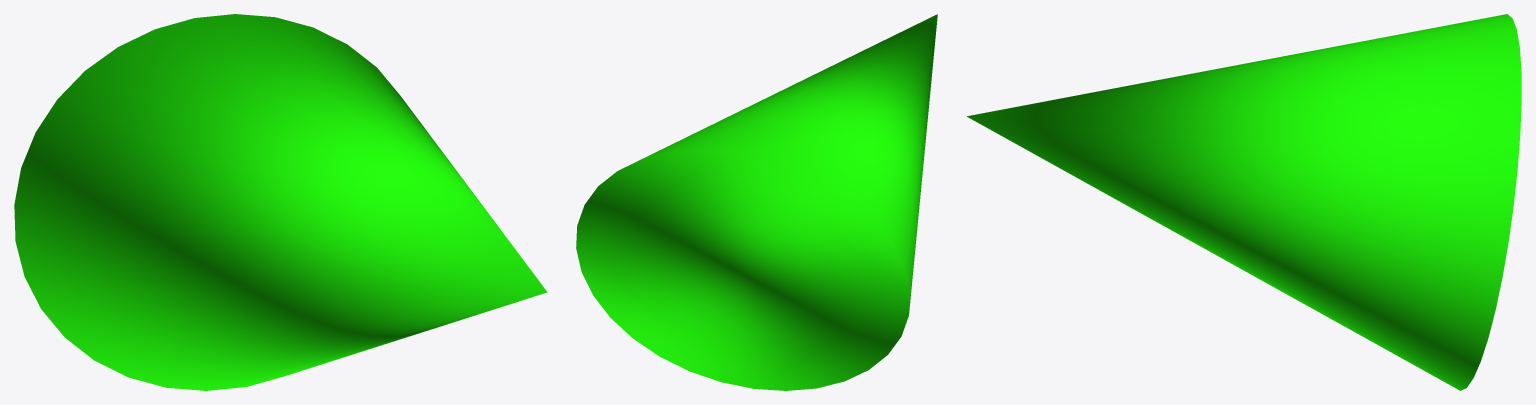
File: zone3-rhino-green.gltf
The picture shows the model from 3 angles, left to right: view 1: azimuth 30°, elevation 25°; view 2: azimuth 150°, elevation 25°; view 3: azimuth 270°, elevation 25°; orthographic projection. The views are drawn at different scales.
Visible parts, largest first — view 1: Corne; view 2: Corne; view 3: Corne.
Part boxes in pixels (left/top/right/bottom): Corne: left=14, top=14, right=547, bottom=390; Corne: left=576, top=14, right=937, bottom=390; Corne: left=967, top=14, right=1521, bottom=390.
Bounding box in the file's own units: 0.7107 × 0.5485 × 0.9062.
